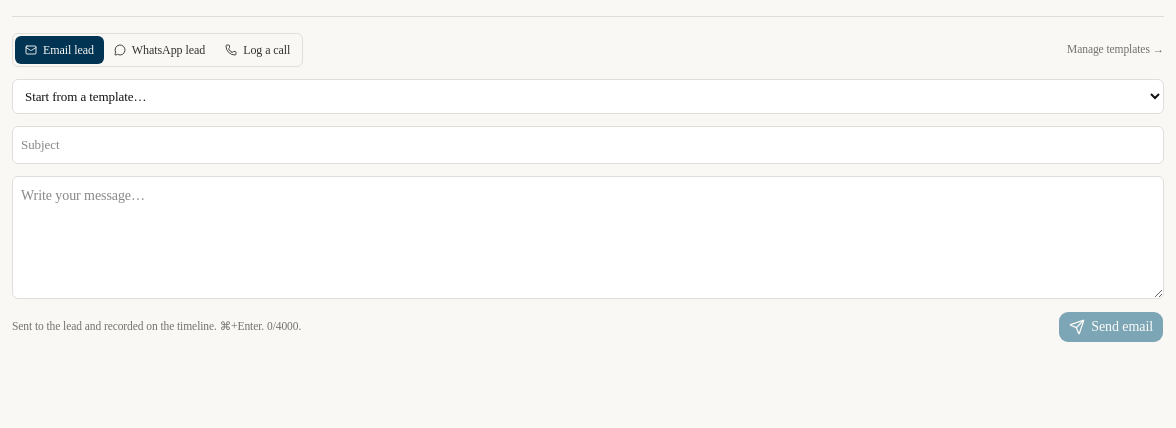
Test: EnquiryComposer › warns when a token fell back to generic wording
The image size is (1176, 428).
Select "First response" in the dropdown at (588, 96), box x1=12 y1=79 x2=1164 y2=114
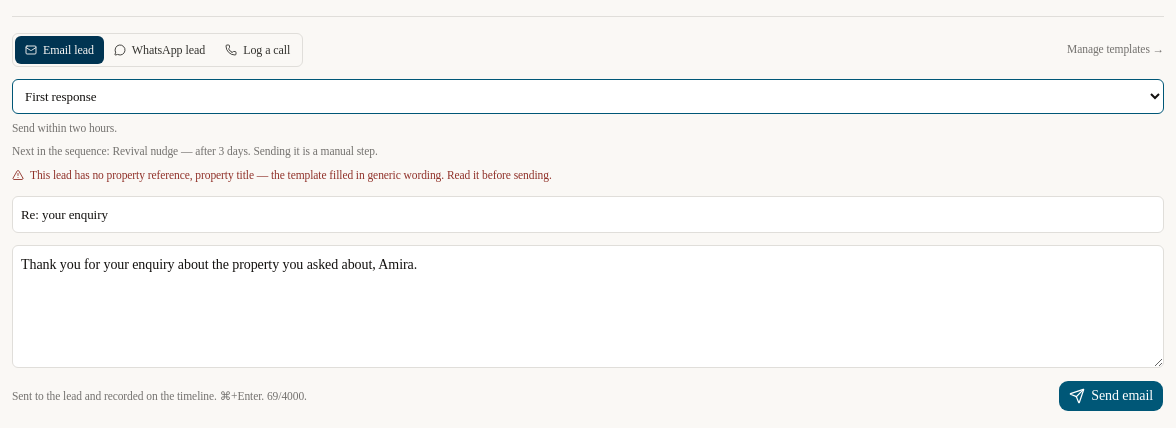
Expected: the text "property reference" is shown, x1=107 y1=168 x2=254 y2=180
Expected: the text "generic wording" is shown, x1=254 y1=168 x2=552 y2=180
